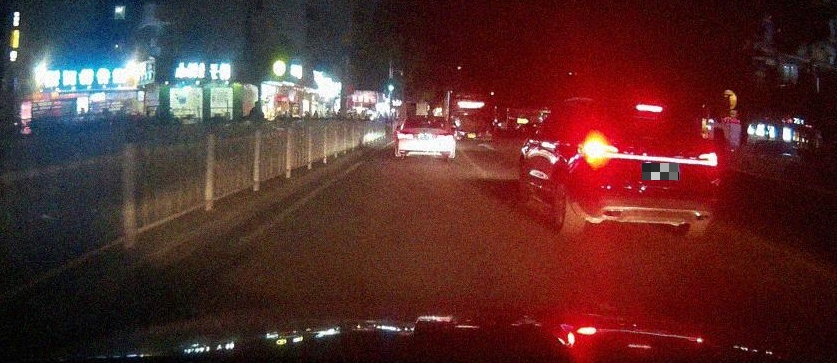L_light: (580, 143, 620, 160), (397, 130, 413, 139)
R_light: (693, 151, 719, 166), (439, 131, 454, 138)
T_light: (637, 105, 663, 113), (422, 117, 432, 120)
night-left: (577, 101, 720, 237)
night-no: (394, 115, 456, 158)
plate_1: (642, 163, 679, 180)
